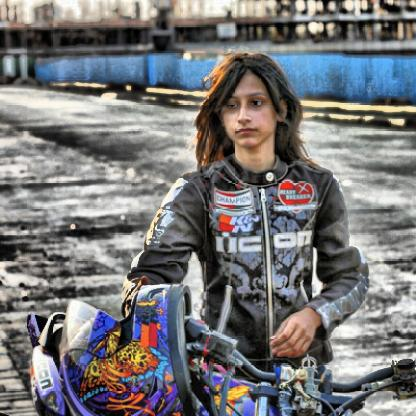not_wear: (199, 47, 281, 153)
